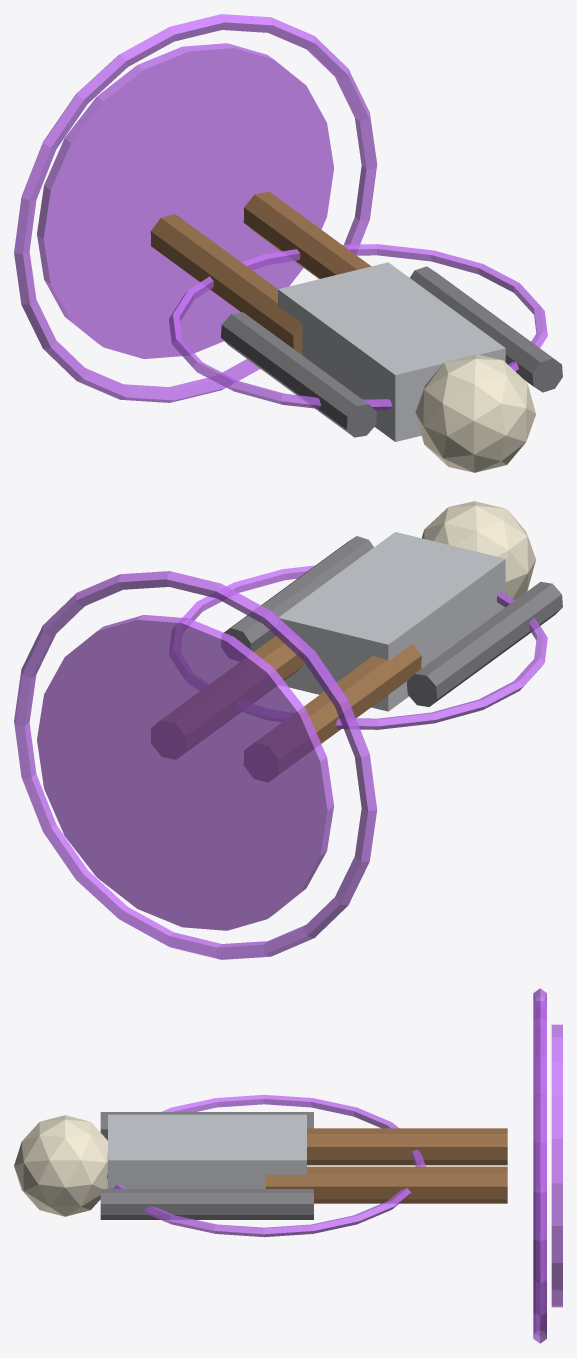
The model's file is biped_jump_pose.glb.
The picture shows the model from 3 angles, top to bottom: view 1: azimuth 30°, elevation 25°; view 2: azimuth 150°, elevation 25°; view 3: azimuth 270°, elevation 25°; orthographic projection. The views are drawn at different scales.
Parts seen in each view (by area): view 1: marker_disc, torso, marker_ring, head, left_leg, motion_arc, left_arm, right_leg, right_arm; view 2: marker_disc, torso, marker_ring, left_leg, right_leg, left_arm, head, motion_arc, right_arm; view 3: torso, right_leg, left_leg, head, right_arm, motion_arc, marker_ring, marker_disc, left_arm.
Part boxes in pixels (bbox=[...]): marker_disc: bbox=[37, 43, 333, 358]; torso: bbox=[278, 262, 505, 441]; marker_ring: bbox=[14, 14, 377, 402]; head: bbox=[415, 354, 535, 472]; left_leg: bbox=[150, 214, 302, 354]; motion_arc: bbox=[169, 244, 547, 410]; left_arm: bbox=[221, 312, 376, 437]; right_leg: bbox=[243, 191, 371, 278]; right_arm: bbox=[410, 266, 562, 392]; marker_disc: bbox=[37, 615, 333, 930]; torso: bbox=[278, 532, 505, 711]; marker_ring: bbox=[14, 571, 377, 959]; left_leg: bbox=[244, 643, 421, 781]; right_leg: bbox=[151, 634, 304, 758]; left_arm: bbox=[407, 581, 562, 706]; head: bbox=[422, 501, 535, 605]; motion_arc: bbox=[179, 565, 547, 729]; right_arm: bbox=[221, 536, 373, 660]; torso: bbox=[108, 1114, 306, 1188]; right_leg: bbox=[265, 1166, 507, 1203]; left_leg: bbox=[307, 1128, 507, 1165]; head: bbox=[14, 1115, 107, 1216]; right_arm: bbox=[100, 1189, 313, 1219]; motion_arc: bbox=[106, 1094, 425, 1237]; marker_ring: bbox=[533, 988, 546, 1343]; marker_disc: bbox=[551, 1024, 562, 1307]; left_arm: bbox=[100, 1112, 313, 1140].
Bounding box in the file's own units: 1.25 × 1.24 × 1.93.
